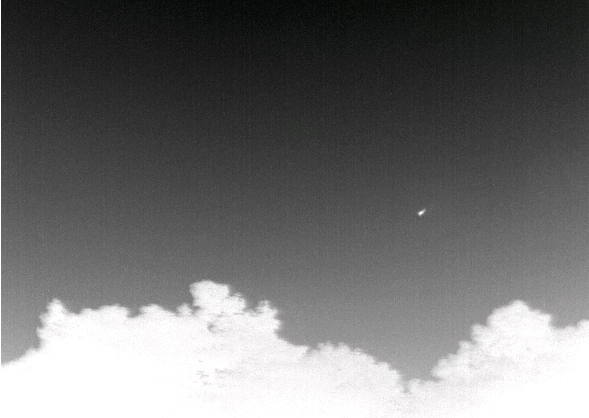dim target: (416, 207, 426, 217)
